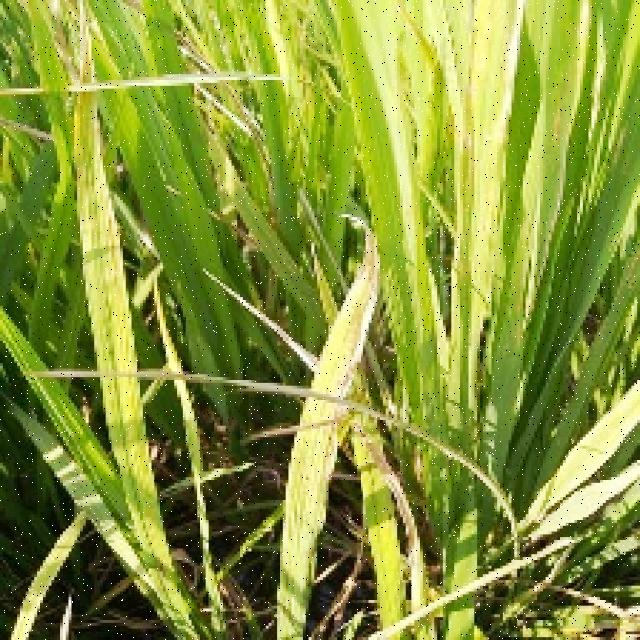unhealth: (277, 228, 381, 639)
